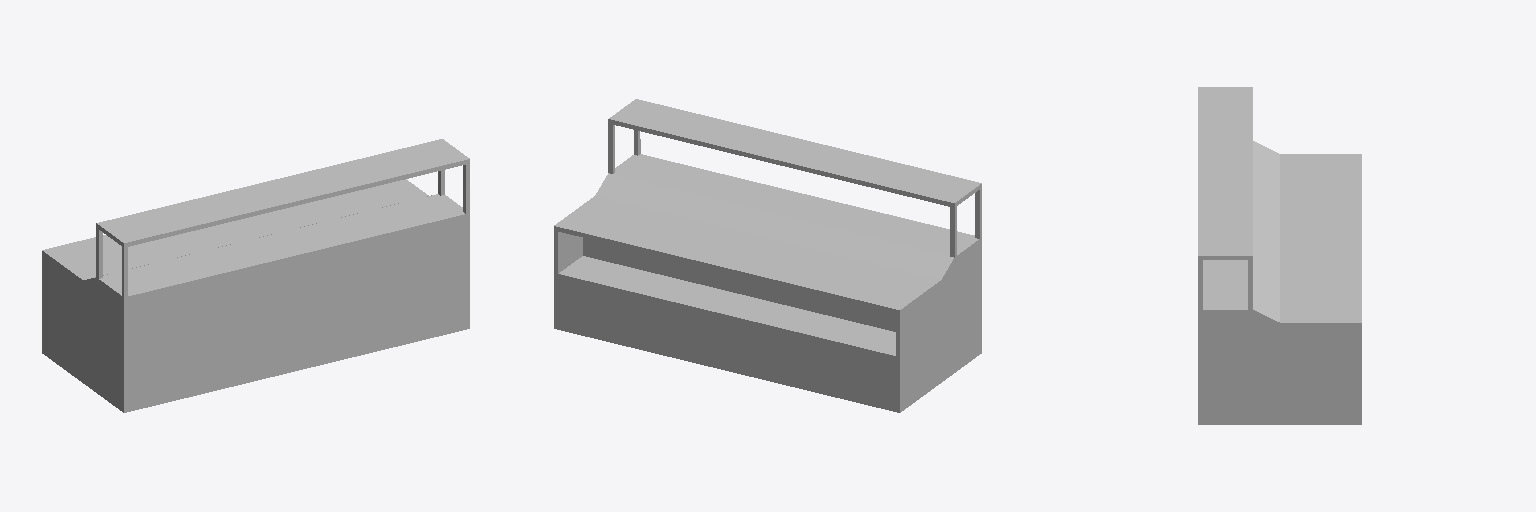
The model's file is vitrine.obj.
3 renders of one model, left to right at view 1: azimuth 30°, elevation 25°; view 2: azimuth 150°, elevation 25°; view 3: azimuth 270°, elevation 25°, orthographic.
Parts seen in each view (by area): view 1: Cube; view 2: Cube; view 3: Cube.
Part boxes in pixels (x1,y1,x2,y2): Cube: (42, 139, 469, 412); Cube: (554, 99, 981, 412); Cube: (1198, 87, 1361, 424).
Bounding box in the file's own units: 19.11 × 8.96 × 7.86.